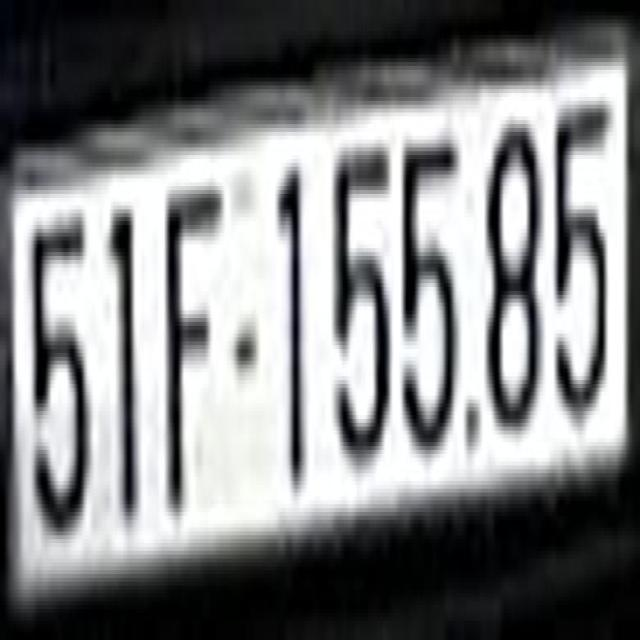1: (275, 153, 307, 491), (108, 190, 140, 524)
5: (30, 194, 90, 543), (332, 128, 393, 469), (552, 84, 612, 428), (401, 124, 459, 458)
8: (485, 105, 541, 438)
F: (163, 167, 224, 512)
